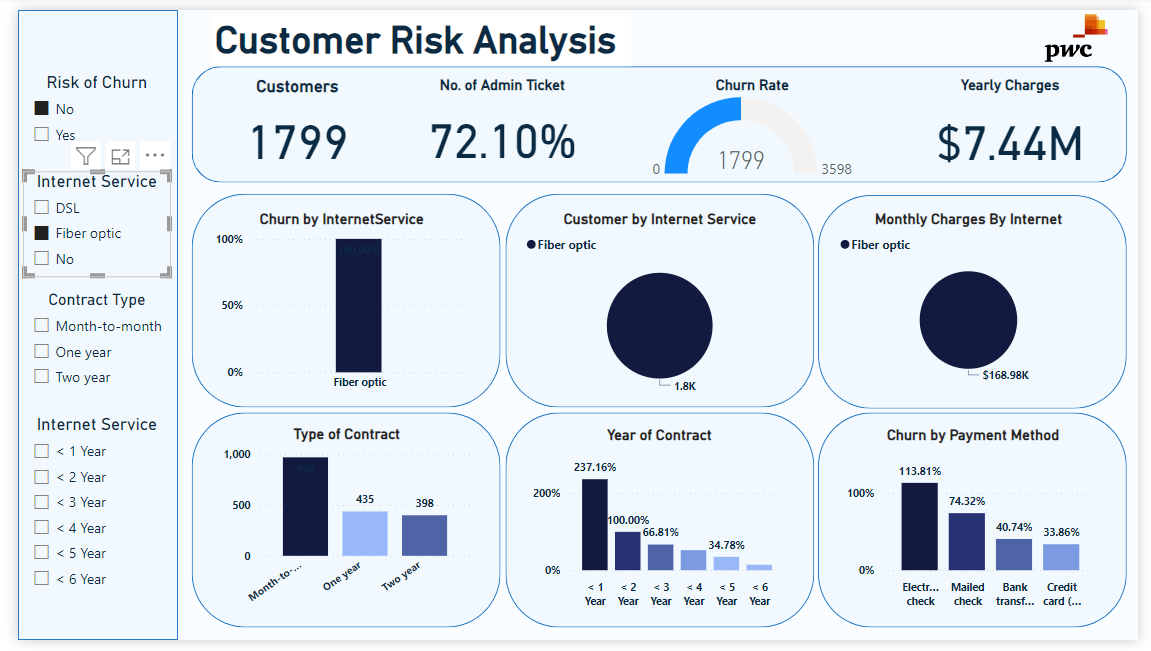

The dashboard page shown, as its layout file describes it:
{"tool":"powerbi","page":{"name":"Customer Risk Analysis","canvas":[1280,720],"ordinal":3},"visuals":[{"type":"shape","box":[198.6,210,352.9,244.3],"z":0},{"type":"shape","box":[198.6,64.3,1068.6,132.9],"z":1000},{"type":"shape","box":[0,0,182.9,720],"z":2000},{"type":"textbox","box":[220,4.3,480,60],"z":3000},{"type":"image","box":[1161.4,0,95.7,64.3],"z":4000},{"type":"card","title":"Customers","fields":{"Values":["CountNonNull(Churn.Customer_ID)"]},"box":[241.4,75.7,155.7,121.4],"z":5000},{"type":"card","title":"No. of Admin Ticket","fields":{"Values":["KPI_Churn.Churn Rate"]},"box":[457,75.7,192.9,121.4],"z":6000},{"type":"card","title":"Yearly Charges","fields":{"Values":["Sum(Churn.TotalCharges)"]},"box":[1028.2,75.6,210.4,121],"z":7000},{"type":"slicer","title":"Risk  of Churn","fields":{"Values":["Churn.Churn"]},"box":[5.7,71.4,168.6,90],"z":8000},{"type":"slicer","title":"Contract Type","fields":{"Values":["Churn.Contract"]},"box":[5.7,320,168.6,142.9],"z":9000},{"type":"gauge","title":"Churn Rate","fields":{"Y":["CountNonNull(Churn.Churn)"]},"box":[709.8,75.7,258.6,121.4],"z":10000},{"type":"columnChart","title":"Churn by InternetService","fields":{"Y":["CountNonNull(Churn.Churn)"],"Category":["Churn.InternetService"]},"box":[220,228.6,300,215.7],"z":11000},{"type":"shape","box":[198.6,460,352.9,245.7],"z":12000},{"type":"shape","box":[556.4,210,352.9,244.3],"z":13000},{"type":"shape","box":[914.3,211.4,352.9,244.3],"z":14000},{"type":"shape","box":[556.4,460,352.9,245.7],"z":15000},{"type":"shape","box":[914.3,460,352.9,245.7],"z":16000},{"type":"pieChart","title":"Customer by Internet Service","fields":{"Category":["Churn.InternetService"],"Y":["CountNonNull(Churn.Customer_ID)"]},"box":[575.7,228.6,315.7,215.7],"z":17000},{"type":"pieChart","title":"Monthly Charges By Internet","fields":{"Y":["Sum(Churn.MonthlyCharges)"],"Category":["Churn.InternetService"]},"box":[934.3,228.6,304.3,202.9],"z":18000},{"type":"columnChart","title":"Type of Contract","fields":{"Y":["CountNonNull(Churn.Churn)"],"Category":["Churn.Contract"]},"box":[225.7,474.3,300,215.7],"z":19000},{"type":"columnChart","title":"Year of Contract","fields":{"Y":["KPI_Churn.Churn Rate"],"Category":["Churn.Loyalty"]},"box":[582.9,475.7,300,215.7],"z":20000},{"type":"columnChart","title":"Churn by Payment Method","fields":{"Y":["KPI_Churn.Churn Rate"],"Category":["Churn.PaymentMethod"]},"box":[941.4,475.7,300,215.7],"z":21000},{"type":"slicer","title":"Internet Service","fields":{"Values":["Churn.InternetService"]},"box":[5.7,184.3,168.6,121.4],"z":22000},{"type":"slicer","title":"Internet Service","fields":{"Values":["Churn.Loyalty"]},"box":[5.7,462.9,168.6,208.6],"z":23000}]}

Visuals, with their boxes in screenshot pixels (x1, y1, x2, y2), scaled from the page's 1280x720 canvas onto the 1151x651 screenshot:
shape: bbox=[179, 190, 496, 411]
shape: bbox=[179, 58, 1139, 178]
shape: bbox=[0, 0, 164, 650]
textbox: bbox=[198, 4, 629, 58]
image: bbox=[1044, 0, 1130, 58]
"Customers" card: bbox=[217, 68, 357, 178]
"No. of Admin Ticket" card: bbox=[411, 68, 584, 178]
"Yearly Charges" card: bbox=[925, 68, 1114, 178]
"Risk  of Churn" slicer: bbox=[5, 65, 157, 146]
"Contract Type" slicer: bbox=[5, 289, 157, 419]
"Churn Rate" gauge: bbox=[638, 68, 871, 178]
"Churn by InternetService" columnChart: bbox=[198, 207, 468, 402]
shape: bbox=[179, 416, 496, 638]
shape: bbox=[500, 190, 818, 411]
shape: bbox=[822, 191, 1139, 412]
shape: bbox=[500, 416, 818, 638]
shape: bbox=[822, 416, 1139, 638]
"Customer by Internet Service" pieChart: bbox=[518, 207, 802, 402]
"Monthly Charges By Internet" pieChart: bbox=[840, 207, 1114, 390]
"Type of Contract" columnChart: bbox=[203, 429, 473, 624]
"Year of Contract" columnChart: bbox=[524, 430, 794, 625]
"Churn by Payment Method" columnChart: bbox=[847, 430, 1116, 625]
"Internet Service" slicer: bbox=[5, 167, 157, 276]
"Internet Service" slicer: bbox=[5, 419, 157, 607]
